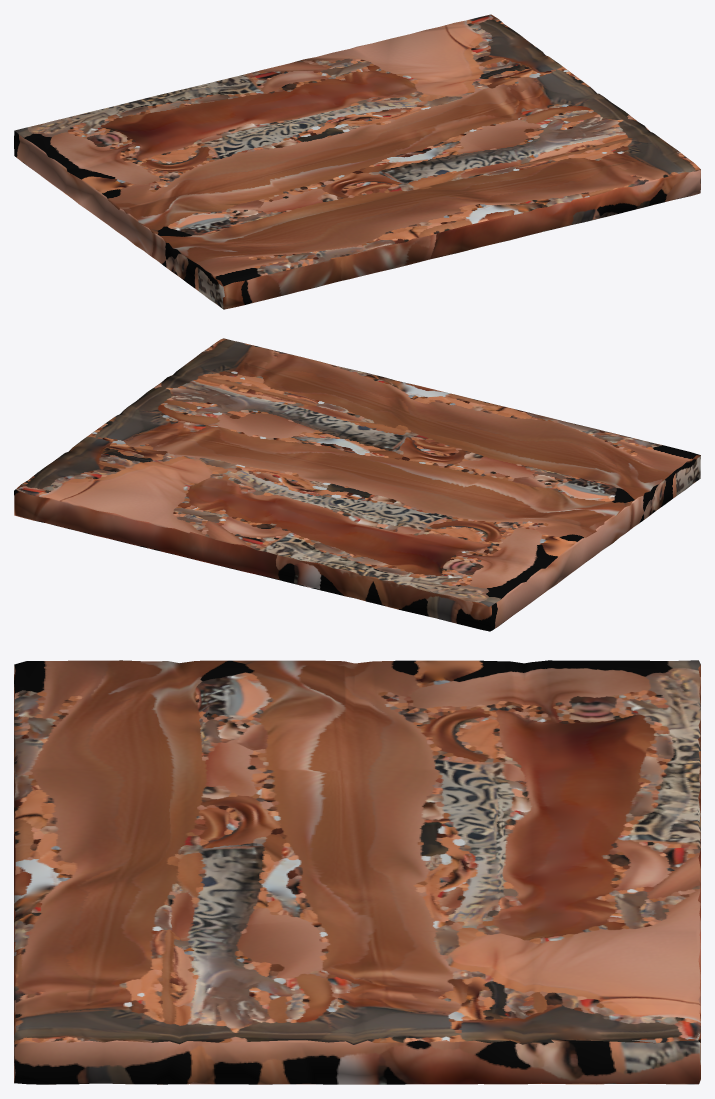
The model's file is OutdoorTileB.fbx.
The picture shows the model from 3 angles, top to bottom: view 1: azimuth 30°, elevation 25°; view 2: azimuth 150°, elevation 25°; view 3: azimuth 270°, elevation 25°; orthographic projection. The views are drawn at different scales.
Parts seen in each view (by area): view 1: OutdoorTileB; view 2: OutdoorTileB; view 3: OutdoorTileB.
Boxes of the visible parts, box(x1,y1,x2,y2) form: OutdoorTileB: box(14, 14, 700, 309); OutdoorTileB: box(14, 338, 700, 631); OutdoorTileB: box(14, 660, 700, 1084).
Size of the model in its own units: 200 by 10.69 by 152.
